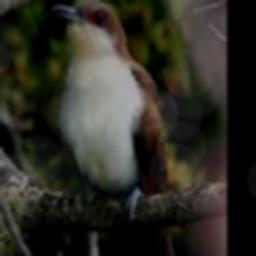Cuckoo: (51, 0, 180, 256)
